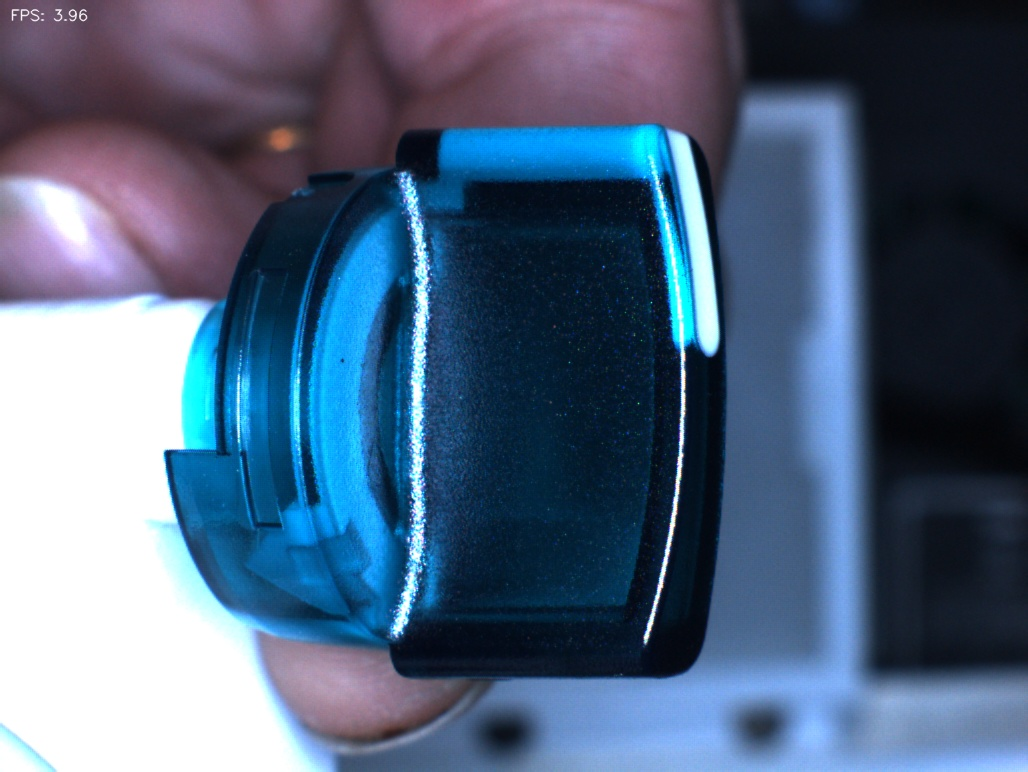PointNoir: (312, 323, 373, 394)
